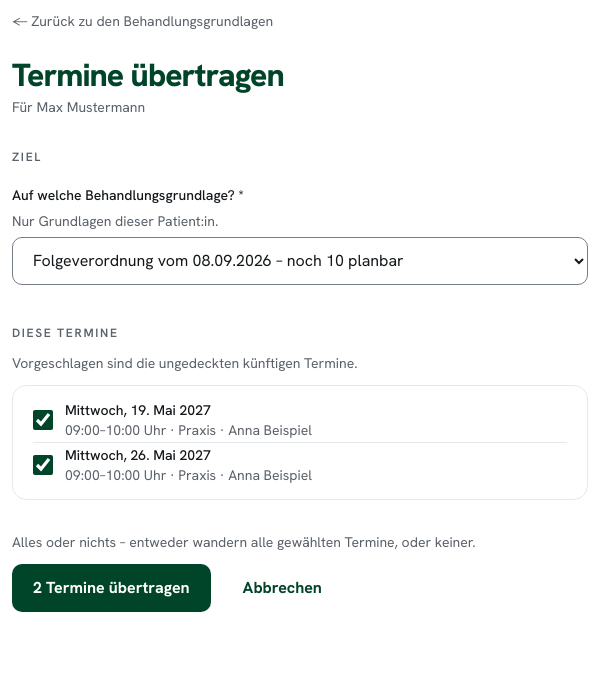
it: Termine übertragen › sagt es, wenn der Server ablehnt, und behält die Auswahl
Expected: the text "Mittwoch, 19. Mai 2027" is shown, [65,401,211,419]
Click the button "2 Termine übertragen" at (111, 588), box [12,564,211,612]
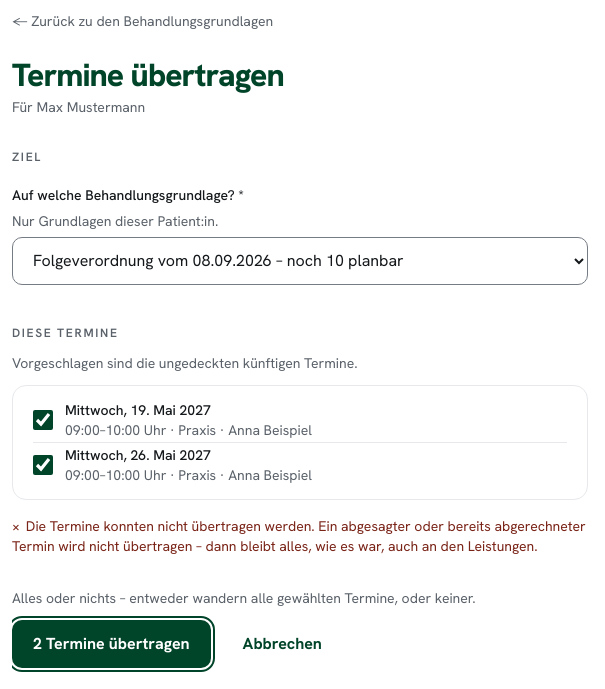
Expected: the number of checkboxes is 2, [33,410,53,430]; [33,455,53,475]
Expected: the message shows "Die Termine konnten nicht übertragen werden", [26,517,315,535]
